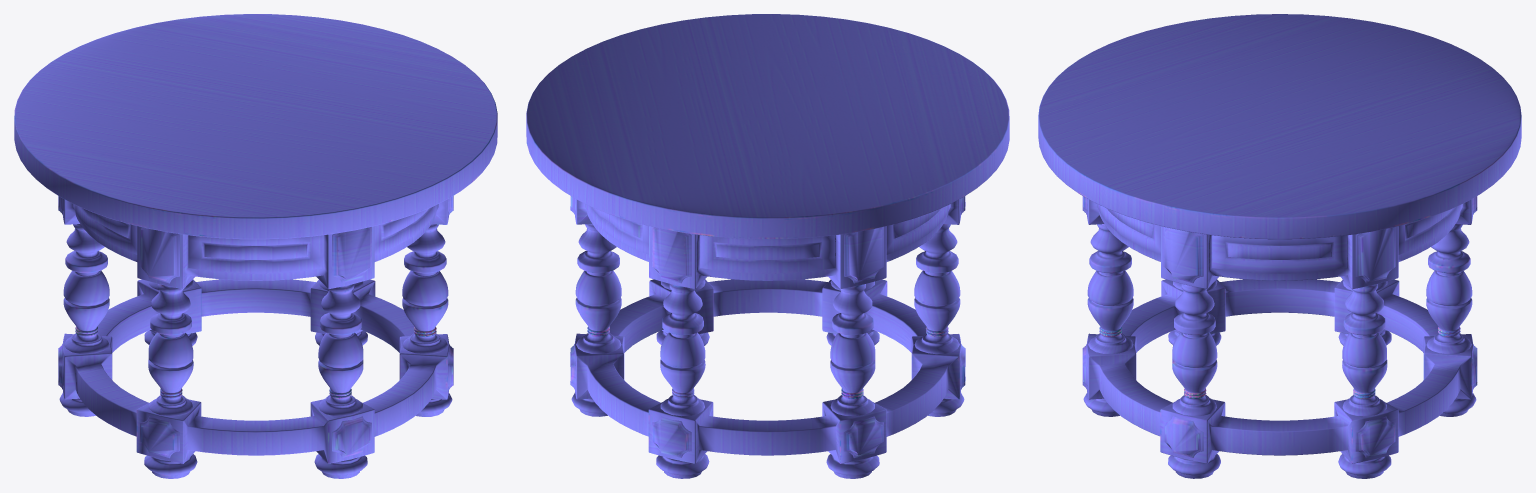
File: tableLegs.obj
3 views of the same model, side by side, from view 1: azimuth 30°, elevation 25°; view 2: azimuth 150°, elevation 25°; view 3: azimuth 270°, elevation 25° (orthographic).
Parts seen in each view (by area): view 1: desirefx_me_002; view 2: desirefx_me_002; view 3: desirefx_me_002.
Boxes of the visible parts, x1=… form: desirefx_me_002: x1=14, y1=14, x2=497, y2=478; desirefx_me_002: x1=526, y1=14, x2=1009, y2=478; desirefx_me_002: x1=1038, y1=14, x2=1521, y2=478.
Bounding box in the file's own units: 150 × 101 × 150.
